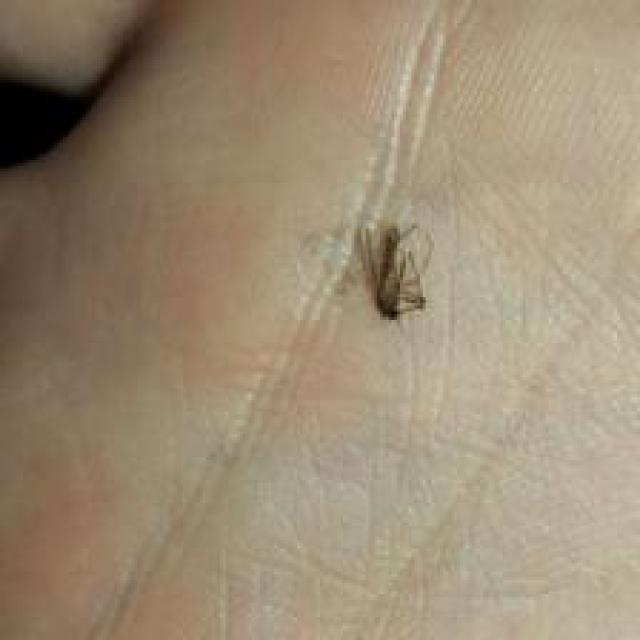Culex: (73, 0, 487, 640)
